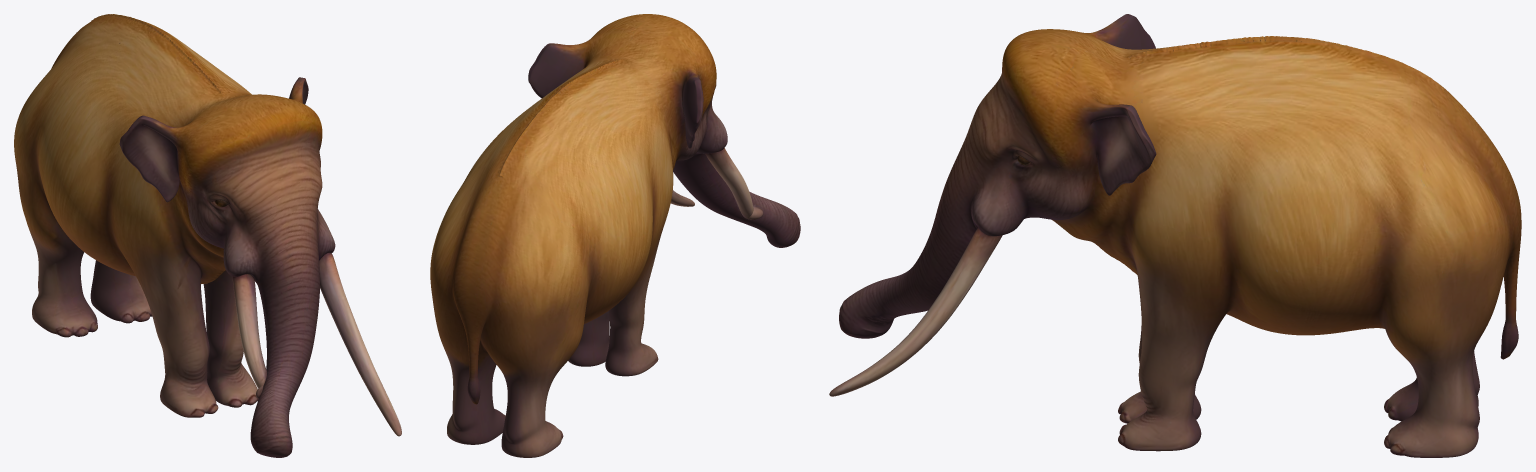
The model's file is Gonfoterio.draco.glb.
The picture shows the model from 3 angles, left to right: view 1: azimuth 30°, elevation 25°; view 2: azimuth 150°, elevation 25°; view 3: azimuth 270°, elevation 25°; orthographic projection. The views are drawn at different scales.
Visible parts, largest first — view 1: material; view 2: material; view 3: material.
Boxes of the visible parts, x1=… form: material: x1=14, y1=14, x2=401, y2=457; material: x1=430, y1=14, x2=800, y2=457; material: x1=829, y1=14, x2=1521, y2=457.
Bounding box in the file's own units: 0.3973 × 0.68 × 1.08.
1 material, 1 textured.
